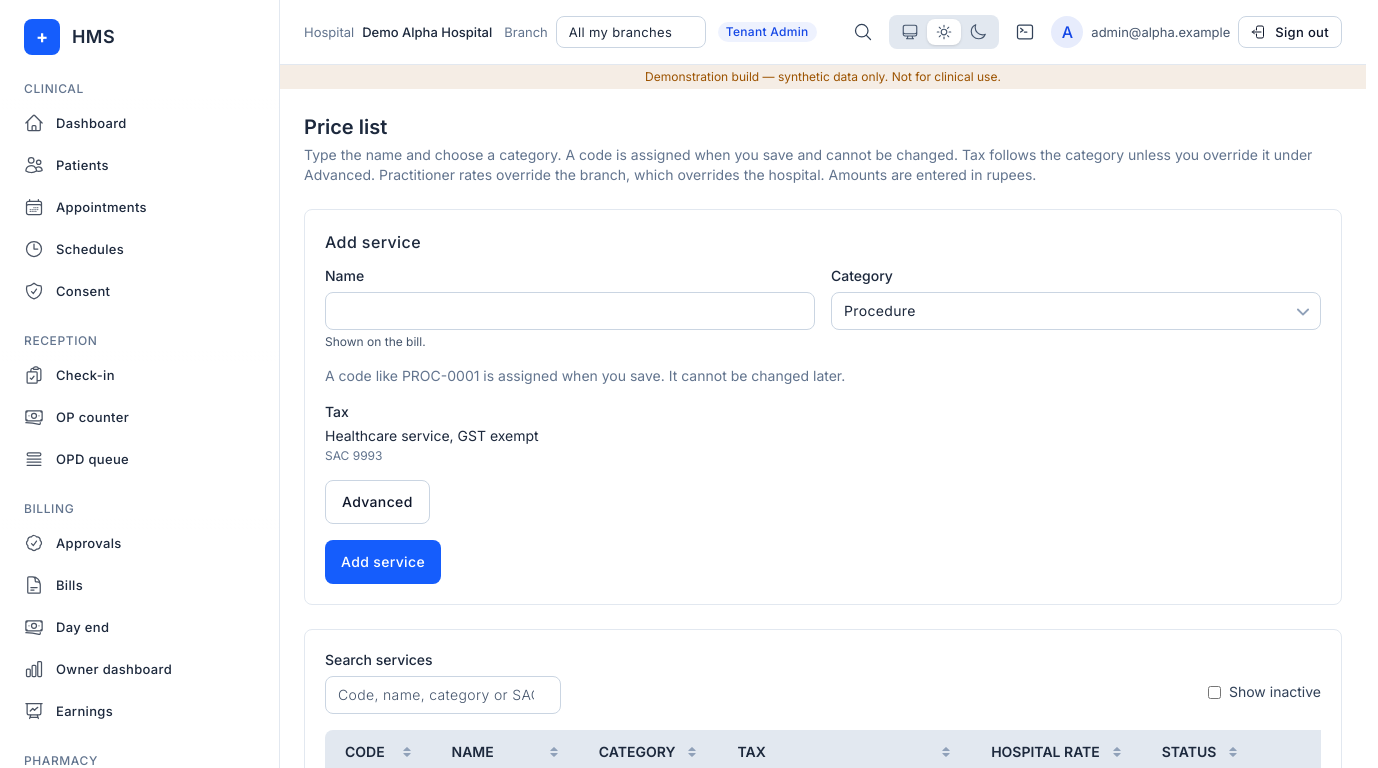
Price list admin › filters the list as you type
The width and height of the screenshot is (1378, 768).
In the search field labelled "Search services": (443, 695) [325, 676, 561, 714], type "dress"
(page scrolled)
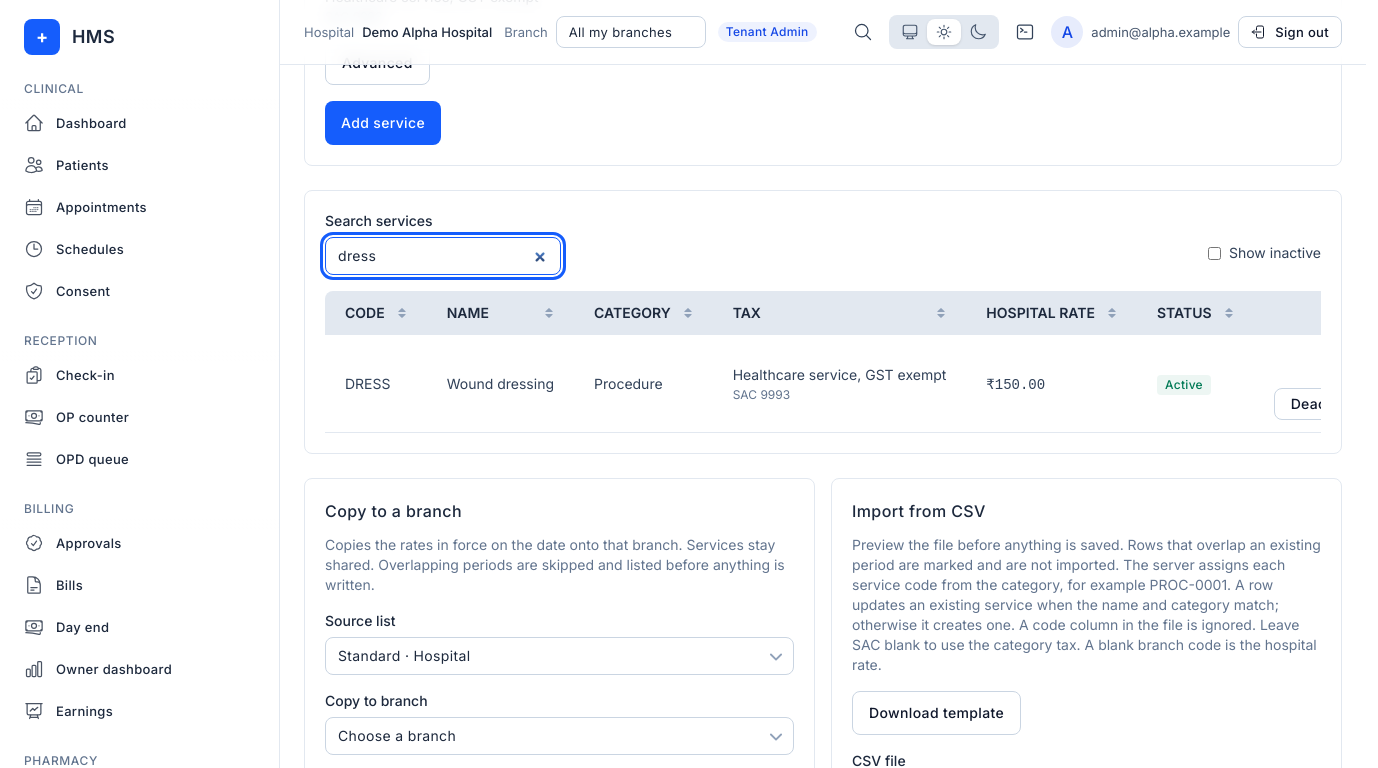
Check: the number of rows with test id "service-item-row" is 1, box [325, 336, 1321, 432]
